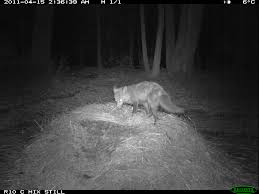fox: (107, 78, 198, 130)
